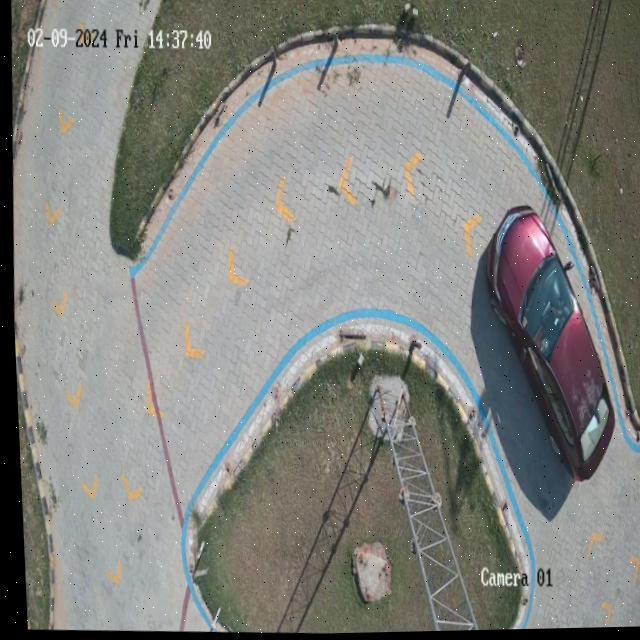car: (481, 214, 614, 481)
